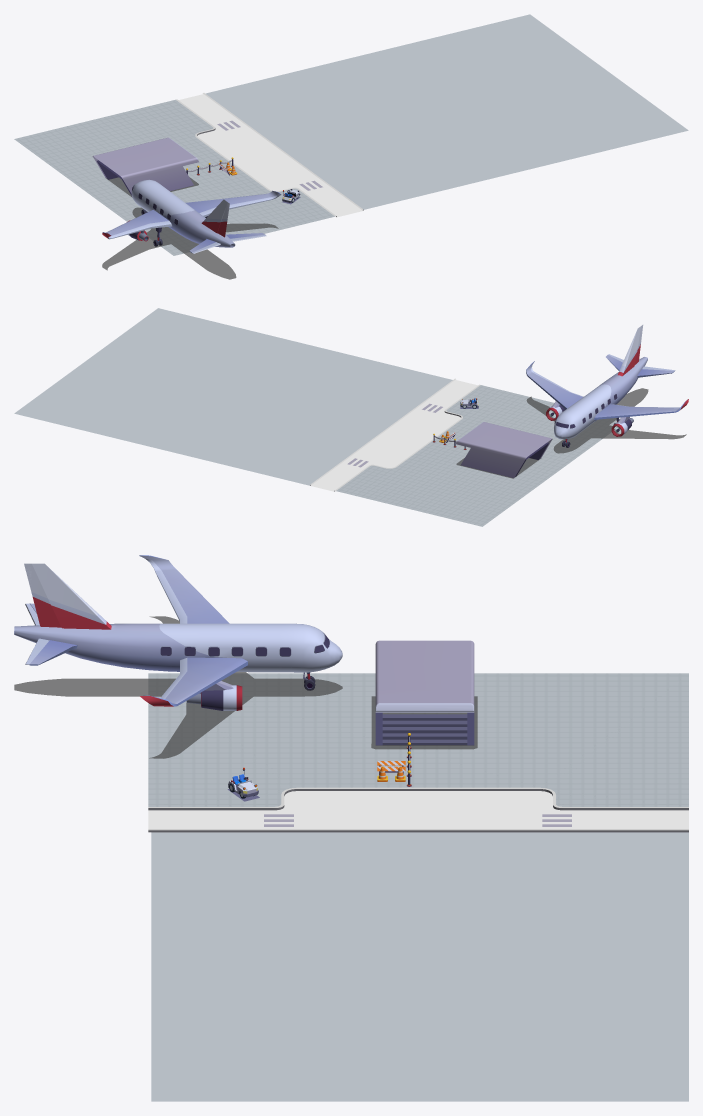
Rendered from City_Airport.fbx.
3 views of the same model, one above another, from view 1: azimuth 30°, elevation 25°; view 2: azimuth 150°, elevation 25°; view 3: azimuth 270°, elevation 25° (orthographic). The views are drawn at different scales.
Parts seen in each view (by area): view 1: City_Airport9, City_Airport6, Tunnel; view 2: City_Airport9, City_Airport6, Tunnel; view 3: City_Airport9, City_Airport6, Tunnel.
Boxes of the visible parts, x1,y1,x2,y2 form: City_Airport9: [14, 14, 688, 255]; City_Airport6: [102, 179, 281, 279]; Tunnel: [92, 137, 199, 197]; City_Airport9: [14, 308, 619, 526]; City_Airport6: [526, 325, 688, 453]; Tunnel: [456, 422, 552, 478]; City_Airport9: [148, 673, 688, 1101]; City_Airport6: [14, 555, 342, 758]; Tunnel: [371, 640, 477, 749].
Bounding box in the file's own units: 455 × 56.41 × 270.
